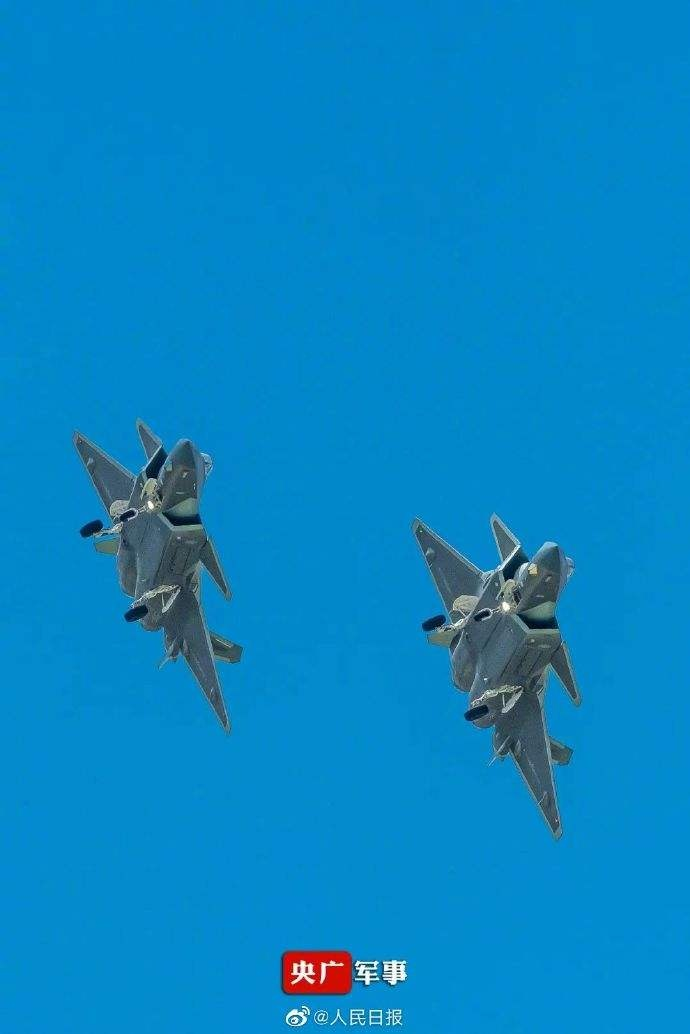J20: (409, 509, 584, 844), (70, 414, 245, 739)
